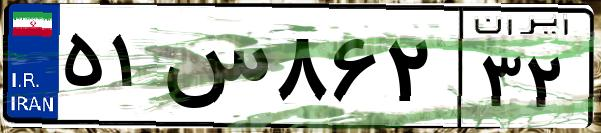1: (110, 28, 158, 98)
2: (385, 28, 445, 110), (525, 38, 570, 115)
3: (475, 38, 525, 113)
5: (57, 26, 110, 100)
6: (330, 28, 385, 110)
8: (270, 28, 330, 110)
س: (158, 20, 270, 120)
